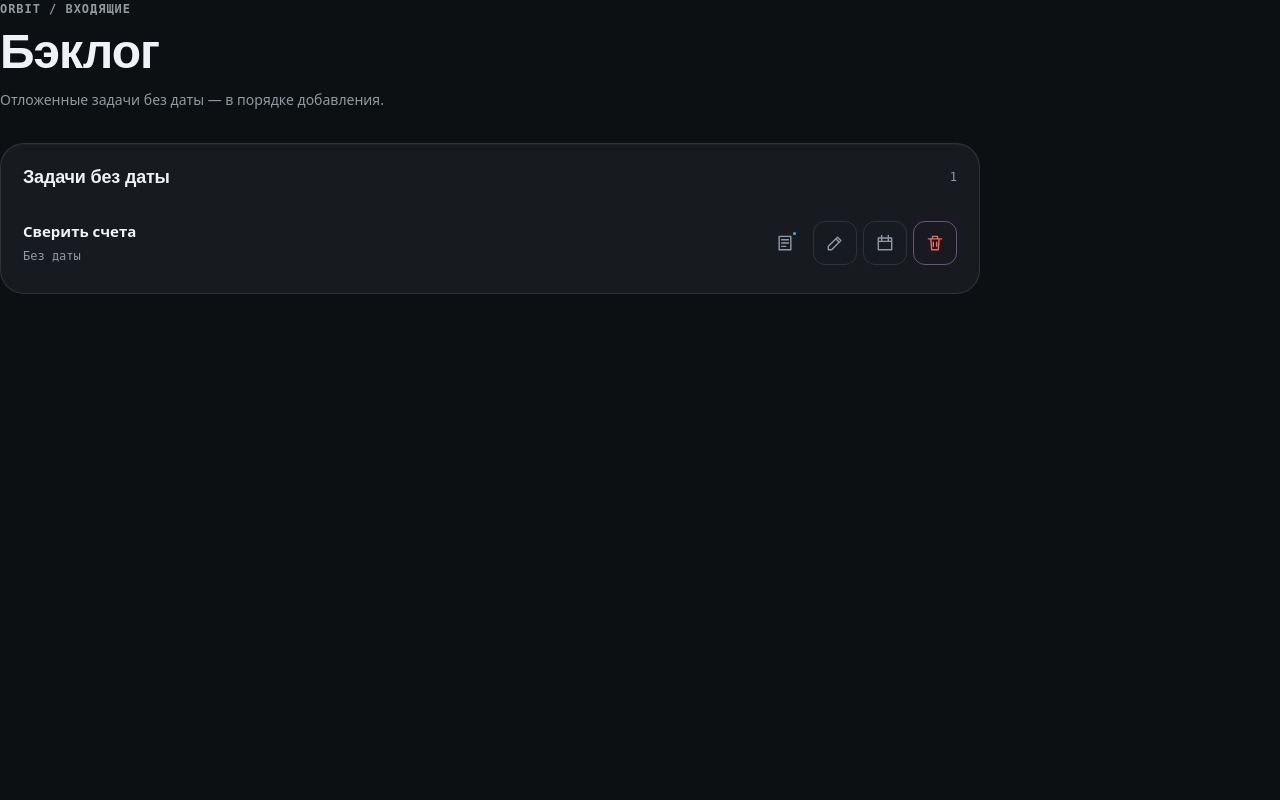
BacklogPage › opens an existing task note read-only from the backlog row (FR-028)
The width and height of the screenshot is (1280, 800).
Step 1. Click the button named "заметка к задаче" → (785, 243), box x1=763 y1=221 x2=807 y2=265
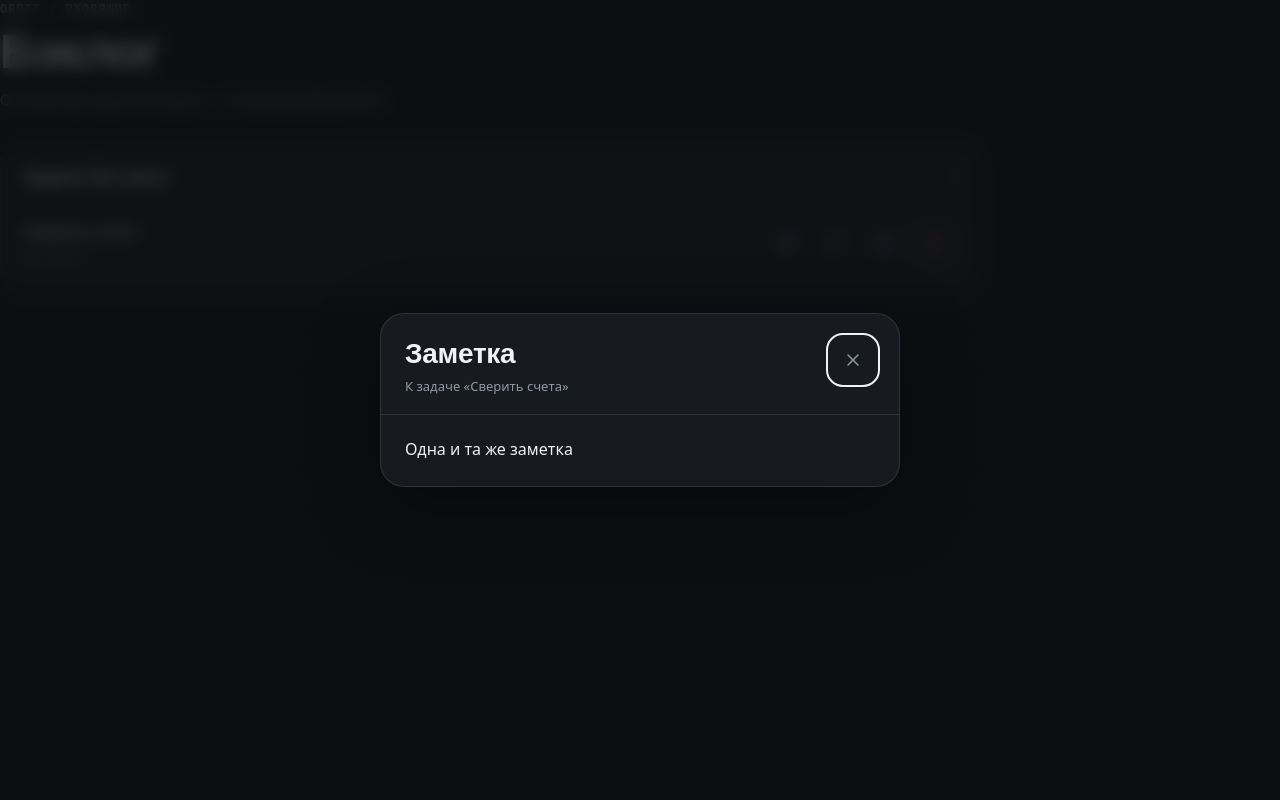
Expected: the dialog "Заметка" shows "Одна и та же заметка", x1=405 y1=438 x2=573 y2=460
